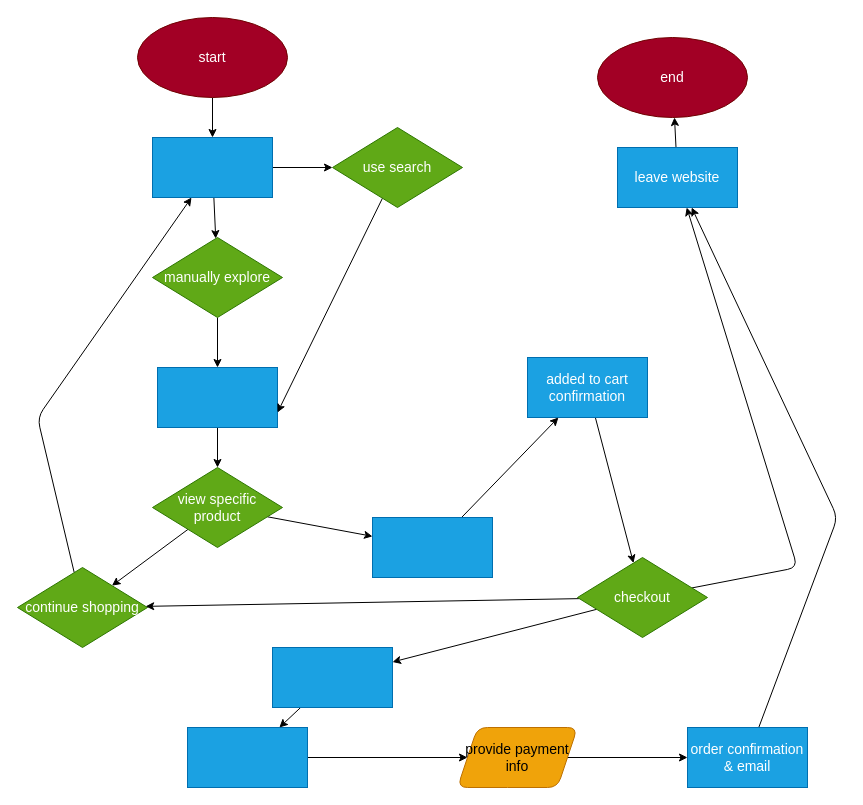
Some shapes in this 863 by 805 pixel diagram are drawn without their labels. The centre of each missing label's shape, as x and y in pixels:
add to cart: pixel 432 547
enter website: pixel 212 167
view cart: pixel 332 677
view payment: pixel 247 757
view products: pixel 217 397
